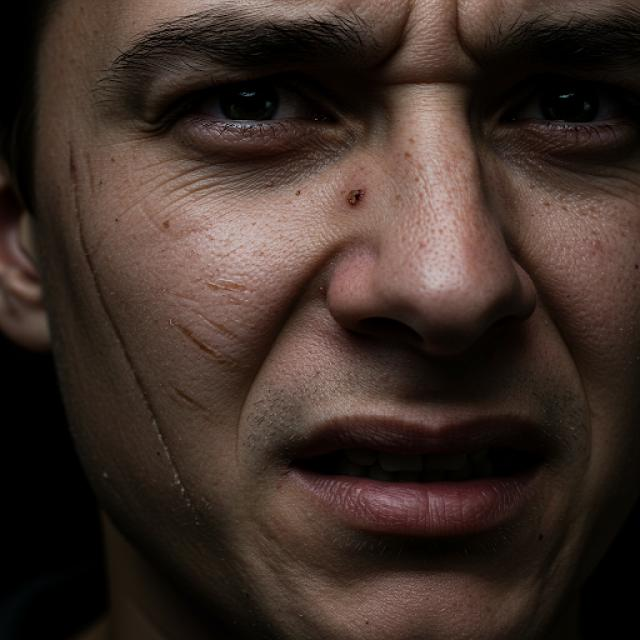injury: (64, 125, 200, 529)
